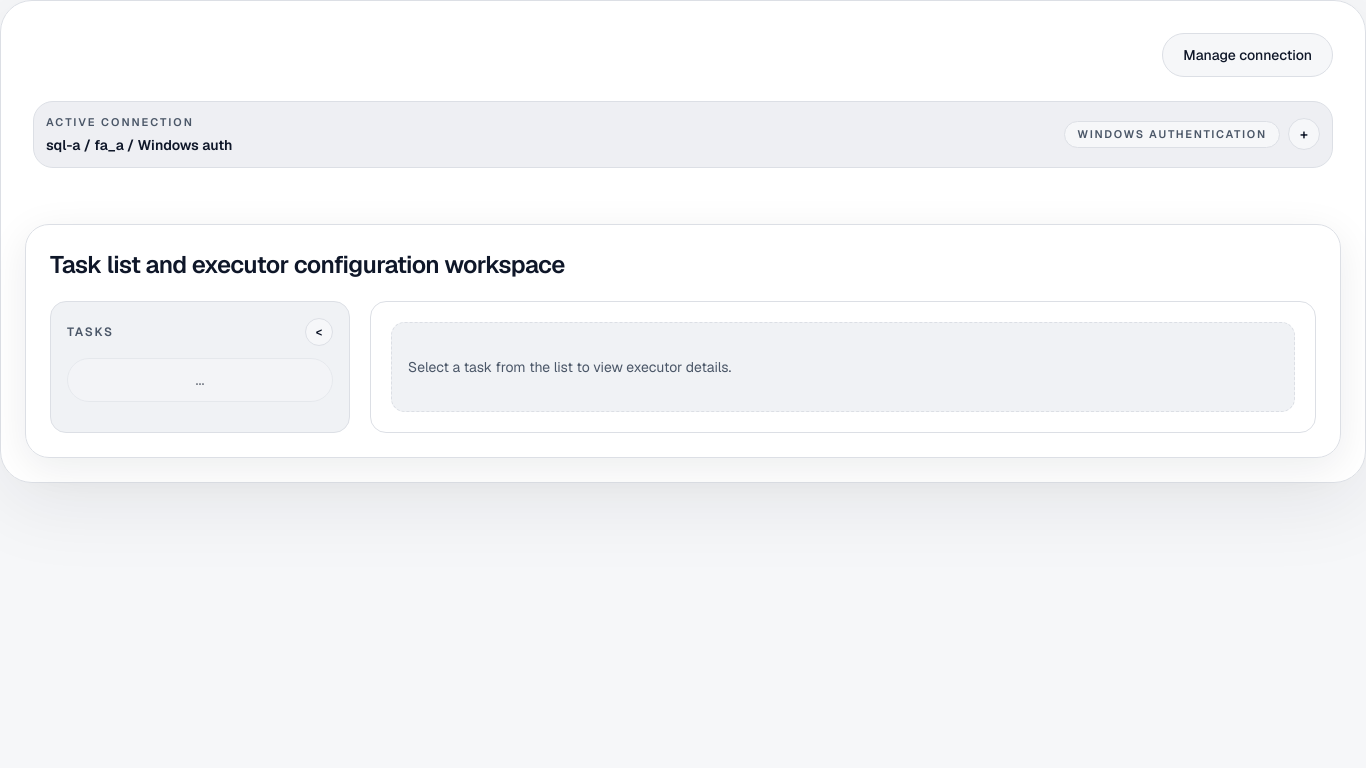
Test: connection-workspace › does not clear recent history when history confirmation is cancelled
This screenshot has width=1366, height=768.
Step 1. Click the button "Manage connection" → (1248, 55), box [1162, 33, 1333, 77]
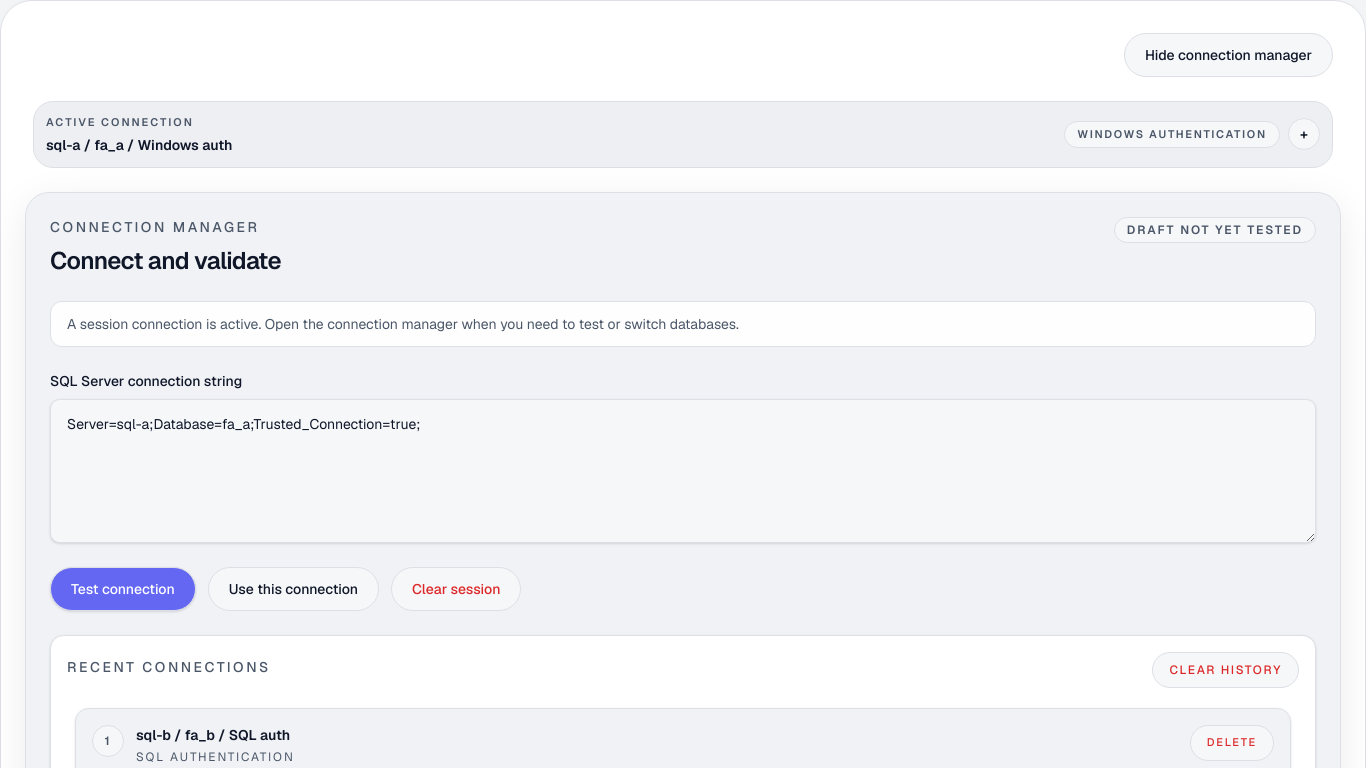
Step 2. Click the button "Clear history" → (1226, 670), box [1152, 652, 1299, 688]
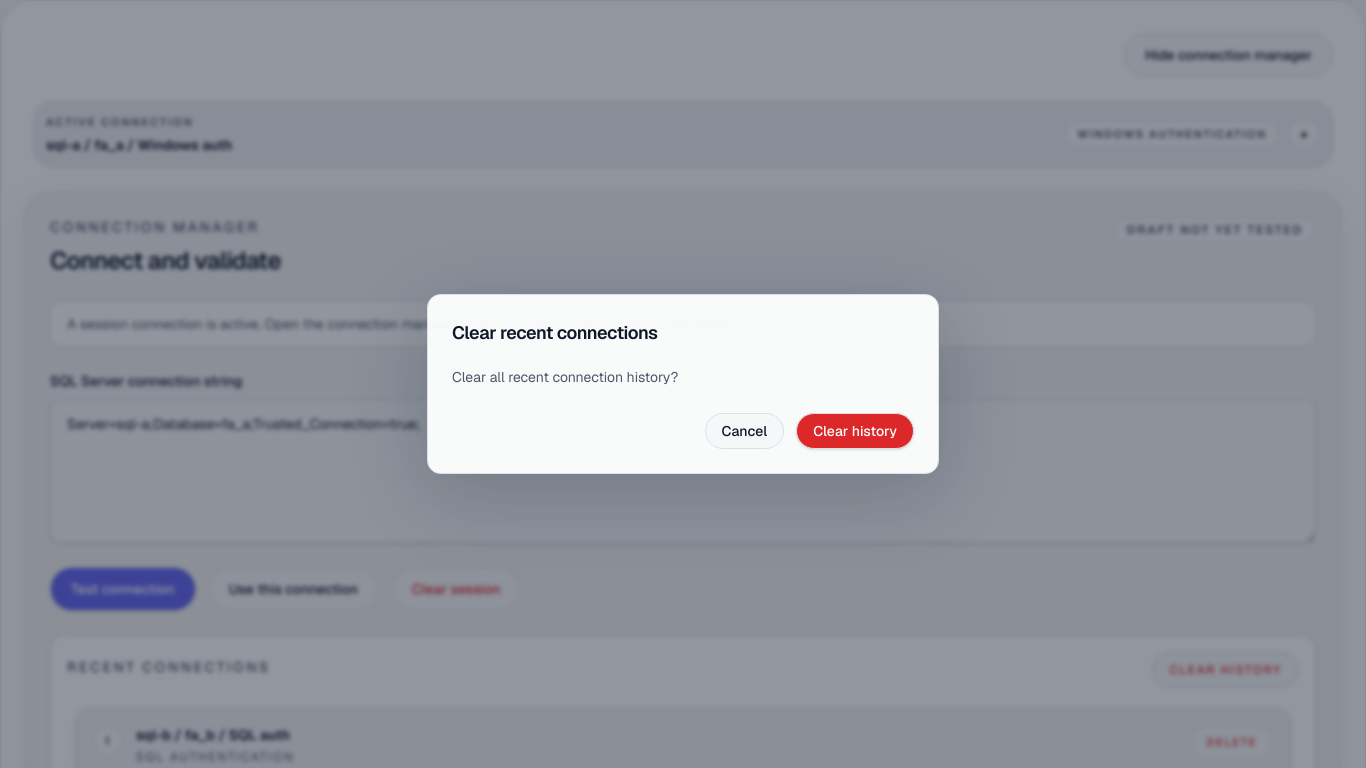
Expected: the dialog "Clear recent connections" is shown, [427, 294, 939, 474]
Step 3. Click the button "Cancel" → (744, 431), box [705, 413, 784, 449]
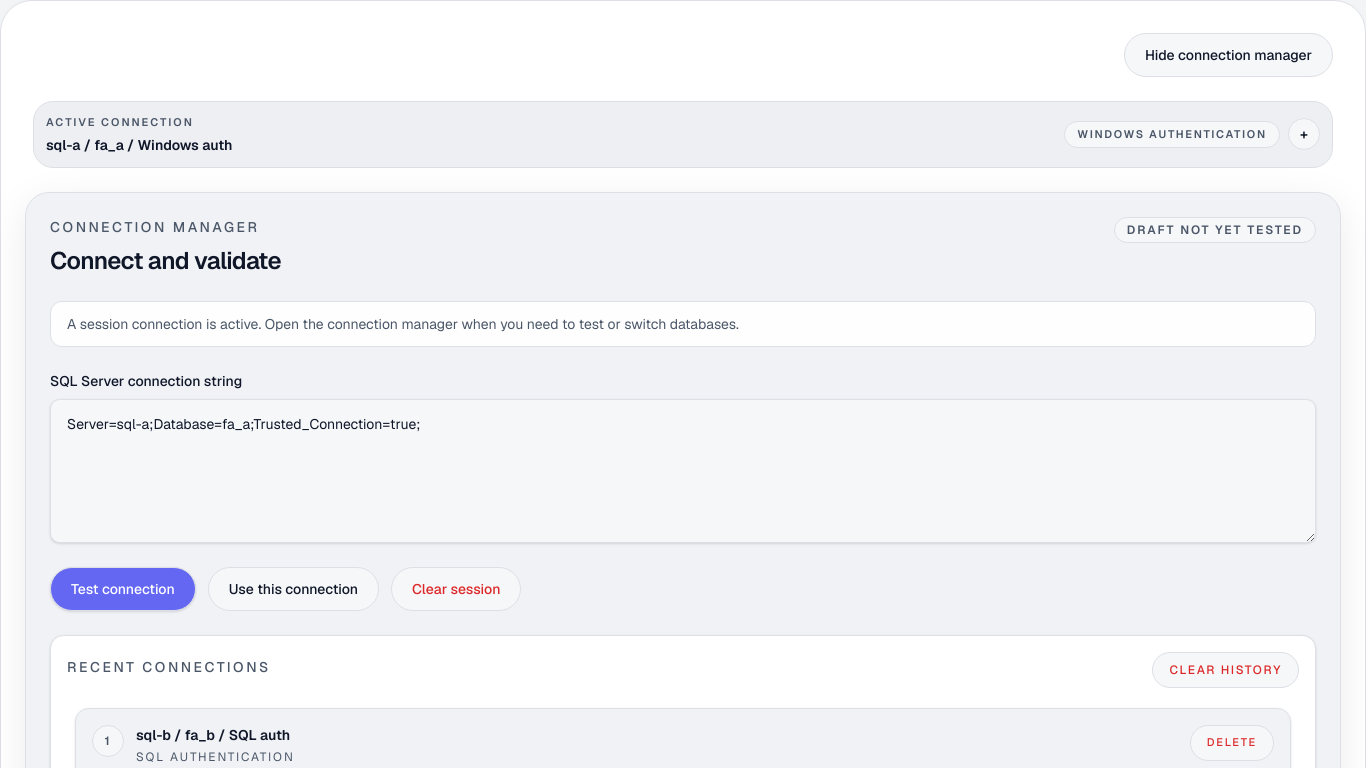
Expected: the text "sql-a / fa_a / Windows auth" is shown, [46, 134, 232, 154]
Expected: the heading "Clear recent connections" is gone
